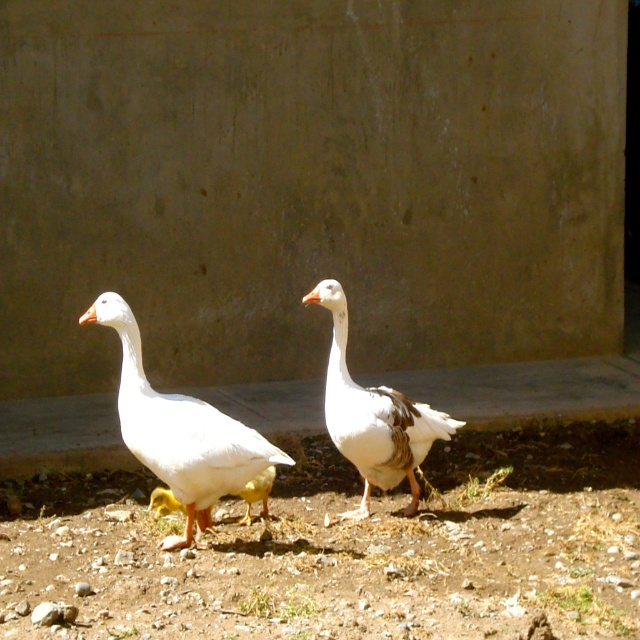Goose: (75, 289, 296, 551), (302, 280, 462, 521)
